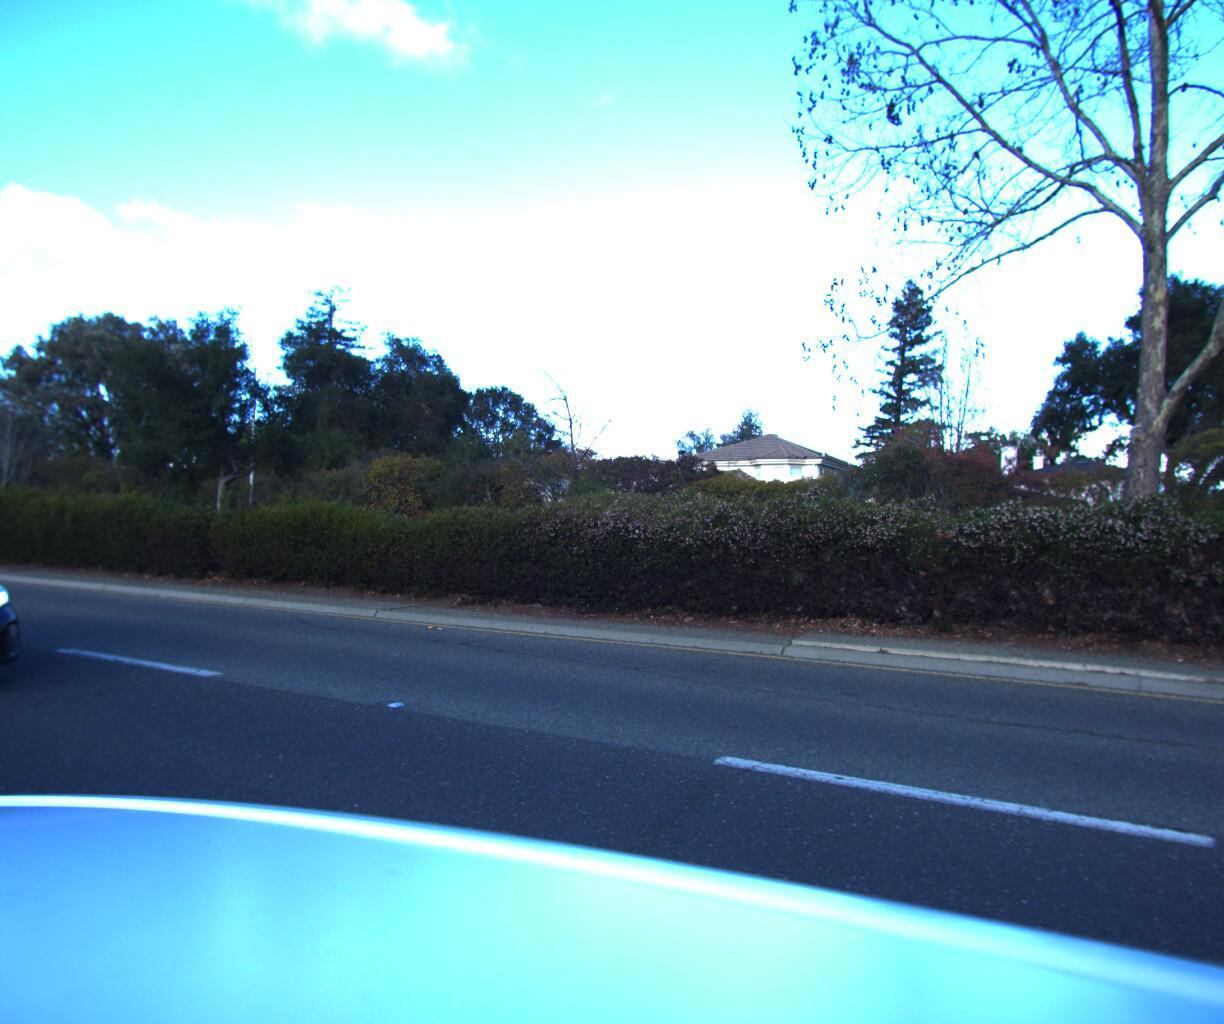car: (0, 484, 54, 731)
